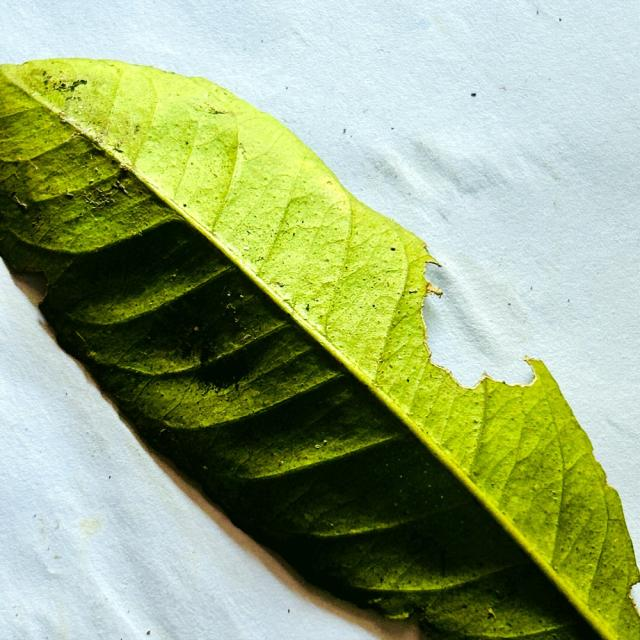Deficiency Leaf: (423, 260, 533, 386), (6, 265, 49, 306)
Lemon: (0, 60, 639, 639)
